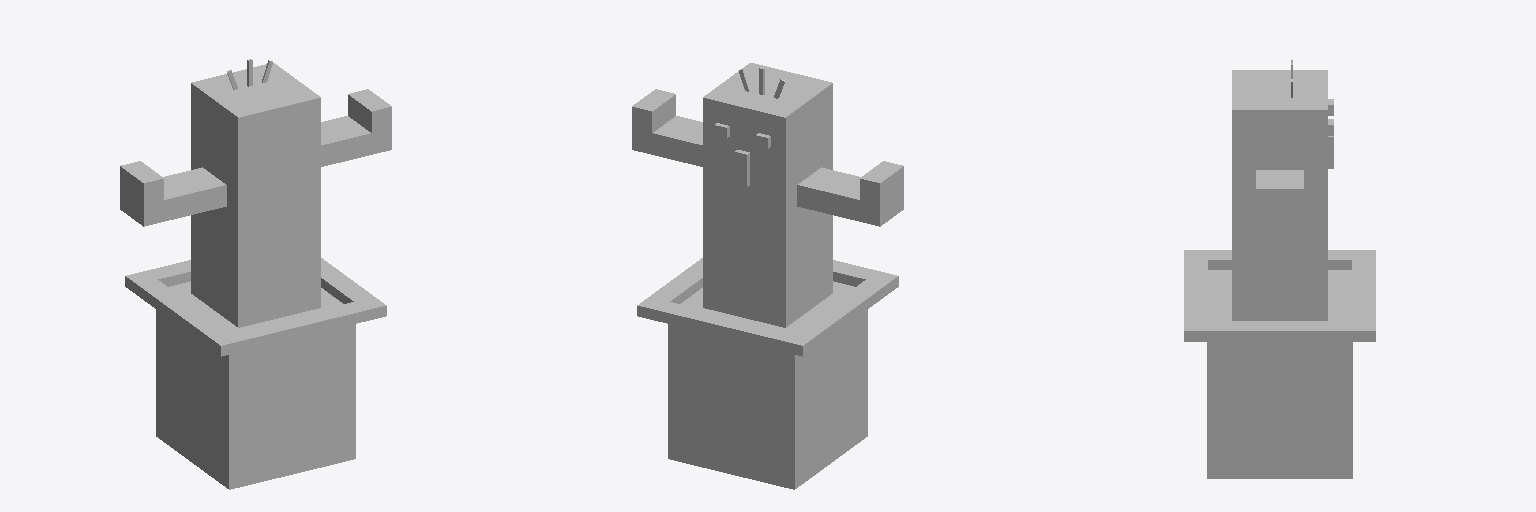
Rendered from wasada.obj.
The picture shows the model from 3 angles: view 1: azimuth 30°, elevation 25°; view 2: azimuth 150°, elevation 25°; view 3: azimuth 270°, elevation 25°; orthographic projection.
Parts seen in each view (by area): view 1: cube; view 2: cube; view 3: cube.
Boxes of the visible parts, x1=… form: cube: x1=120, y1=59, x2=391, y2=489; cube: x1=632, y1=63, x2=903, y2=489; cube: x1=1184, y1=60, x2=1375, y2=478.
Size of the model in its own units: 0.75 by 1.11 by 0.5.